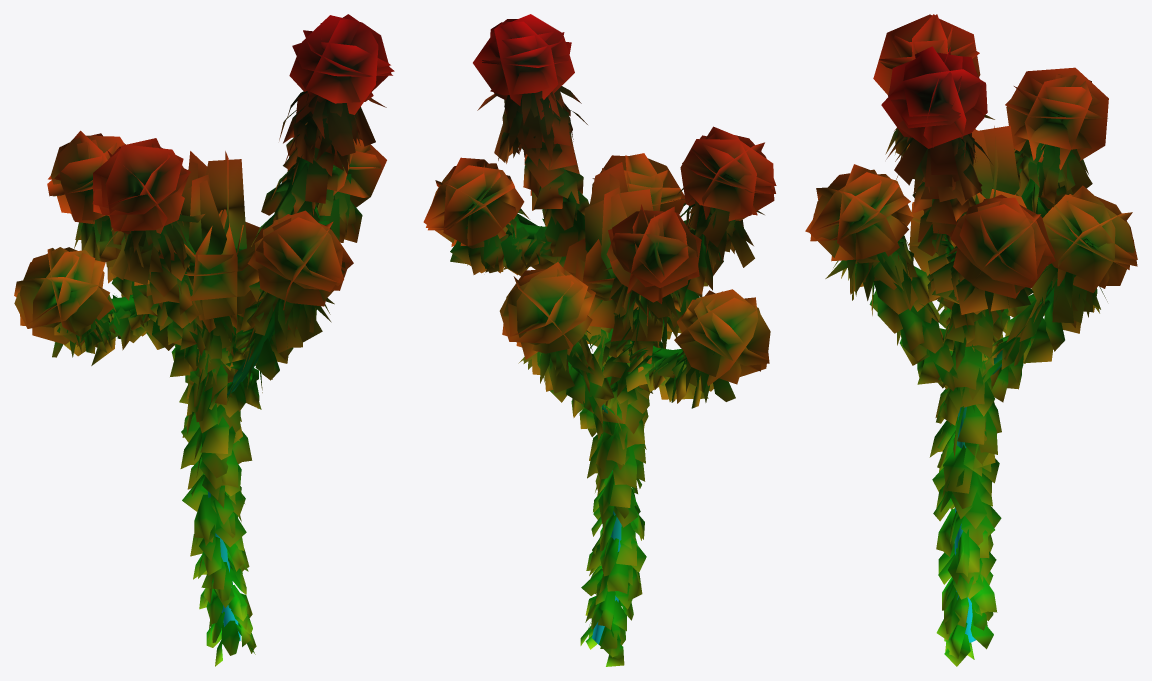
The model's file is Joshua9.fbx.
3 renders of one model, left to right at view 1: azimuth 30°, elevation 25°; view 2: azimuth 150°, elevation 25°; view 3: azimuth 270°, elevation 25°, orthographic. The views are drawn at different scales.
Visible parts, largest first — view 1: Joshua9_LOD0; view 2: Joshua9_LOD0; view 3: Joshua9_LOD0.
Part boxes in pixels (bbox=[...]): Joshua9_LOD0: bbox=[14, 14, 394, 666]; Joshua9_LOD0: bbox=[423, 14, 776, 666]; Joshua9_LOD0: bbox=[805, 14, 1137, 666].
Size of what is drawn, in the model's own units: 343 by 591 by 269.
